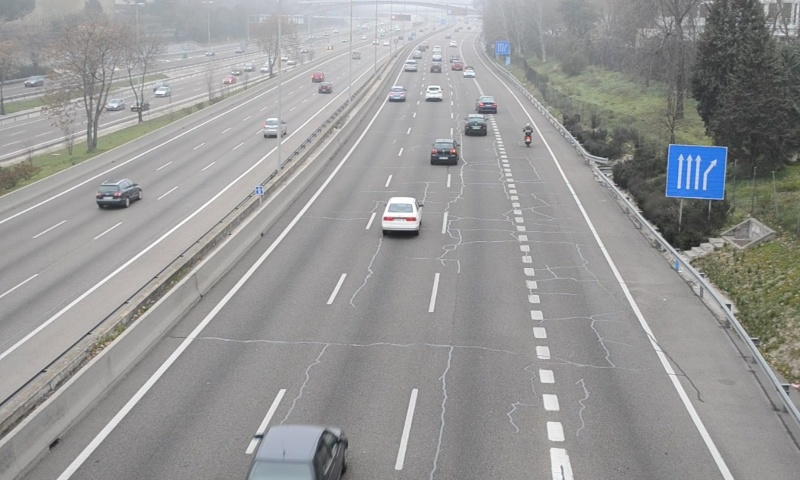car: (245, 423, 347, 478), (381, 196, 422, 232), (430, 139, 459, 166), (464, 114, 487, 136), (476, 95, 498, 113), (424, 84, 444, 102), (388, 86, 406, 102)
motorcycle: (523, 124, 535, 148)
